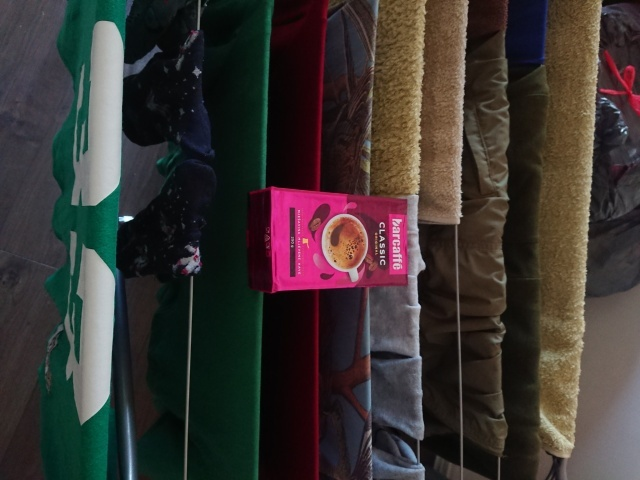Barcaffe Classic Original 225g: (245, 185, 411, 297)
